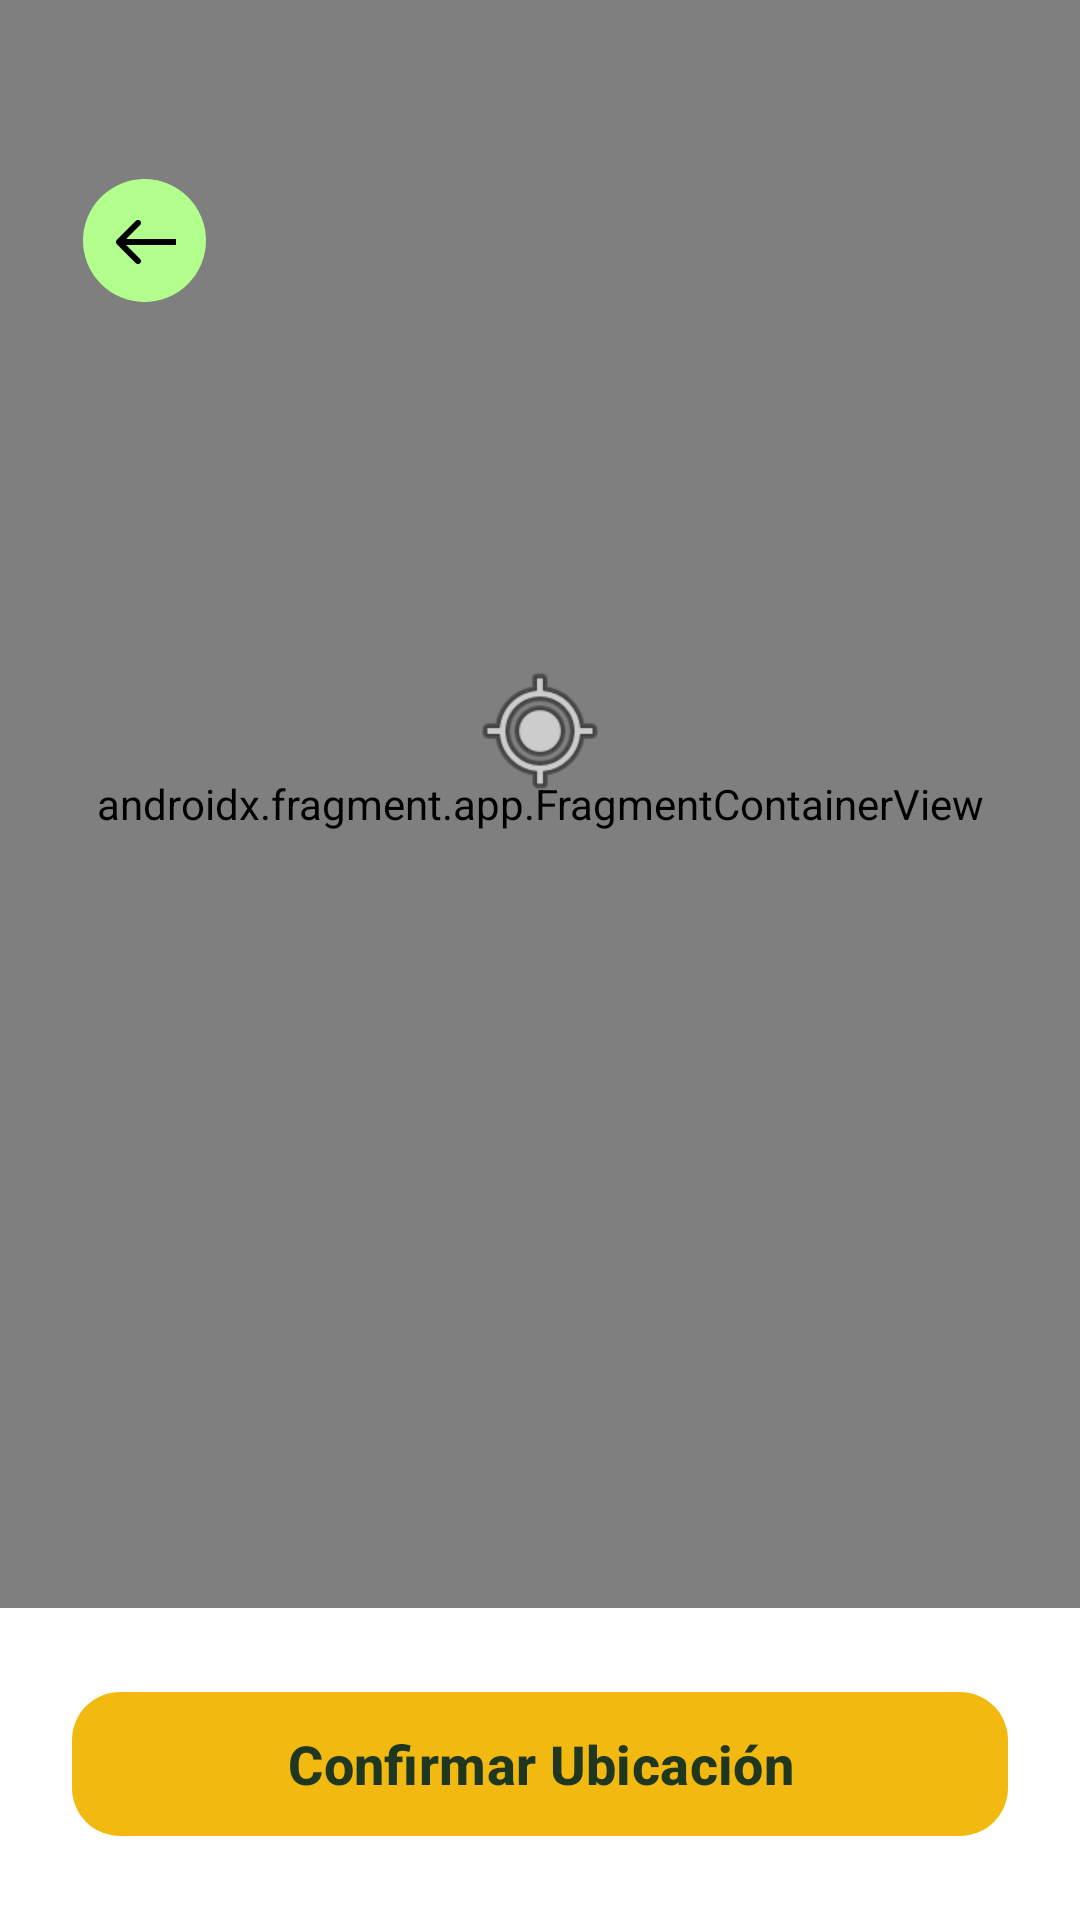

Icons on this 1080px x 1920px Android screen, each with its box as detection(x1, y1, x2, y2):
mylocation: detection(483, 674, 597, 788)
Regresar: detection(83, 179, 206, 302)
